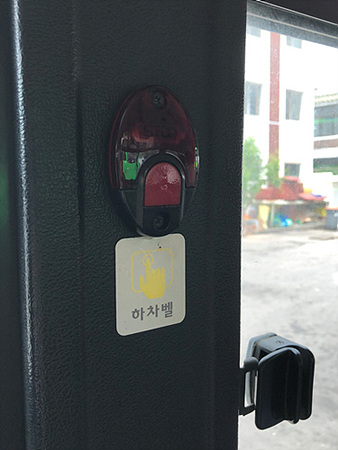bell: (106, 84, 200, 237)
